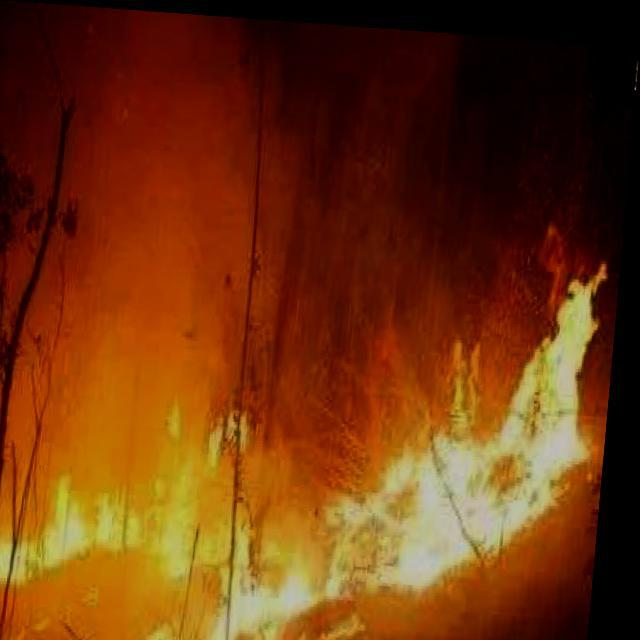Fire: (0, 210, 615, 639)
